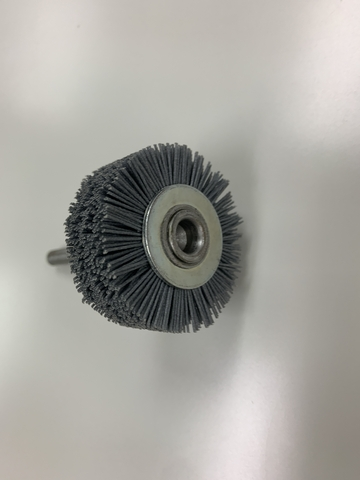Wheel Brush: (33, 132, 229, 333), (40, 144, 244, 330)
